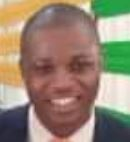without_facemask: (32, 81, 97, 126)
